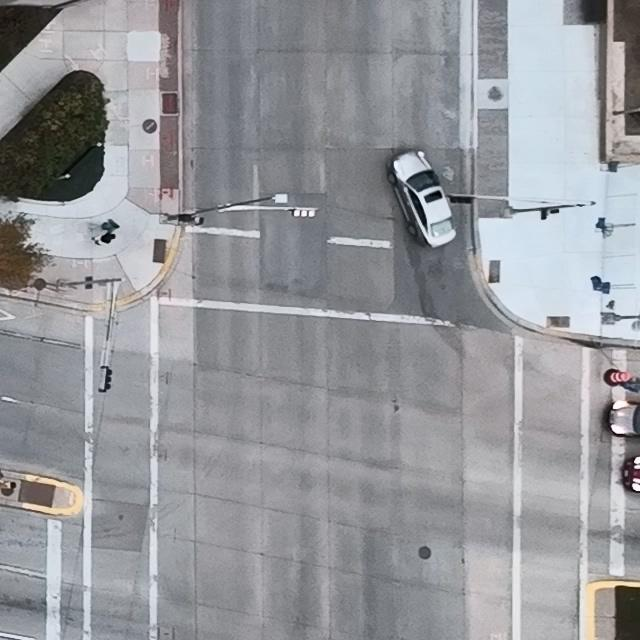car: (387, 150, 457, 250), (604, 399, 640, 438)
